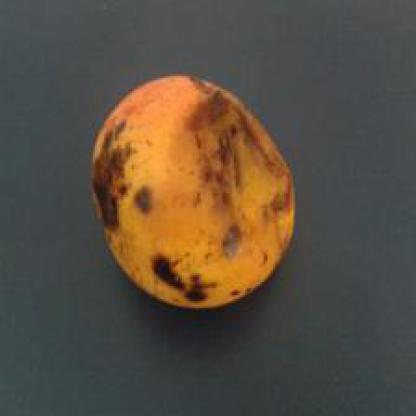mango_rotten: (87, 74, 294, 308)
